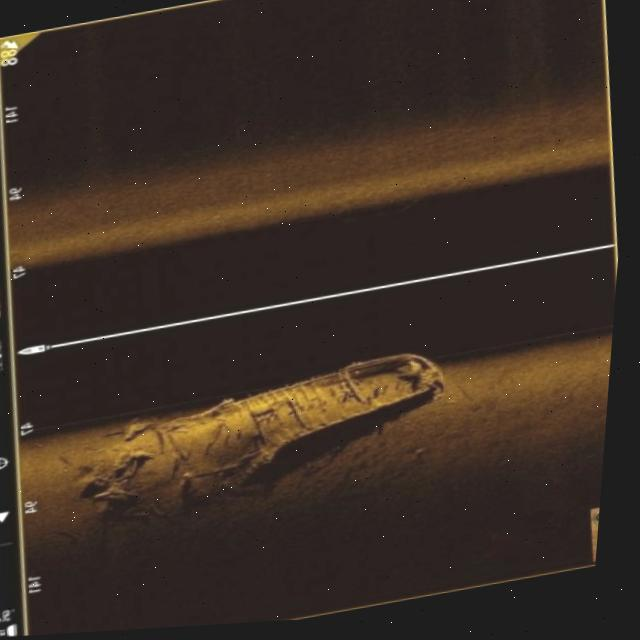shipwreck: (77, 351, 459, 514)
